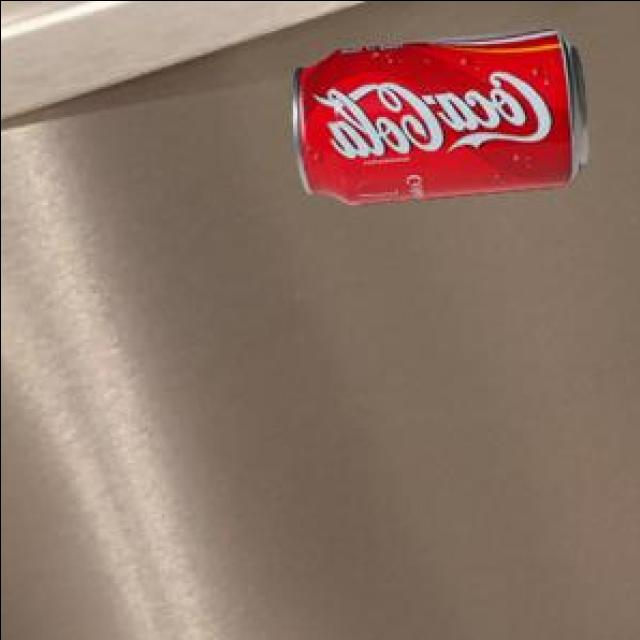logam: (295, 25, 590, 201)
